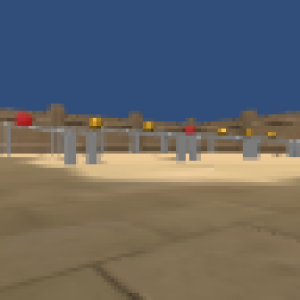badGoal: (15, 111, 32, 126), (183, 126, 197, 136)
goodGoalMulti: (86, 114, 104, 130), (139, 120, 155, 131), (267, 129, 278, 141), (241, 128, 253, 138), (219, 127, 230, 137)
wall: (84, 129, 102, 164), (61, 128, 78, 165), (176, 134, 199, 160), (126, 127, 142, 152), (242, 137, 258, 159), (4, 124, 12, 157), (287, 140, 300, 159), (159, 131, 170, 151), (206, 135, 215, 152)
